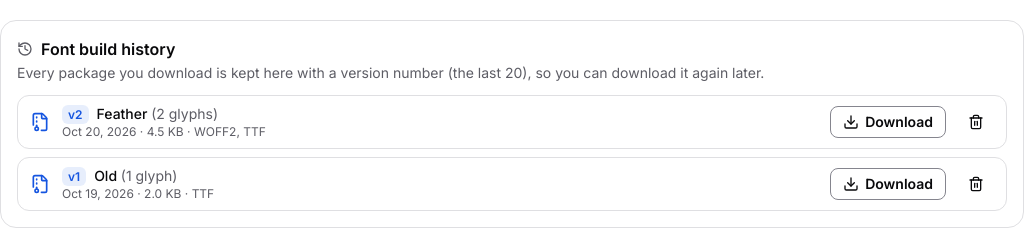
Test case: downloading again › shows a message when the download fails
Click the button with aria-label "Download Feather v2 from". click: (888, 122)
box: [830, 106, 946, 138]
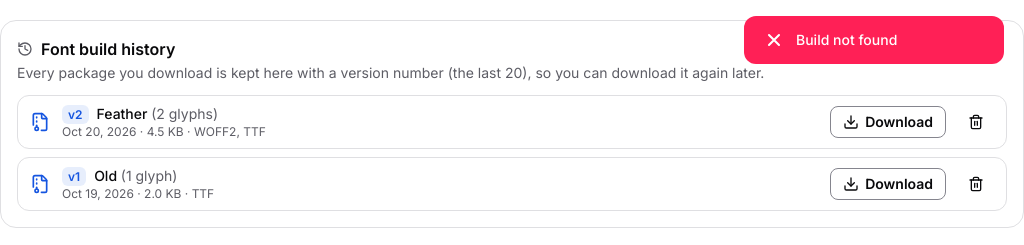
Expected: the text "Build not found" is shown, [796, 31, 897, 48]
